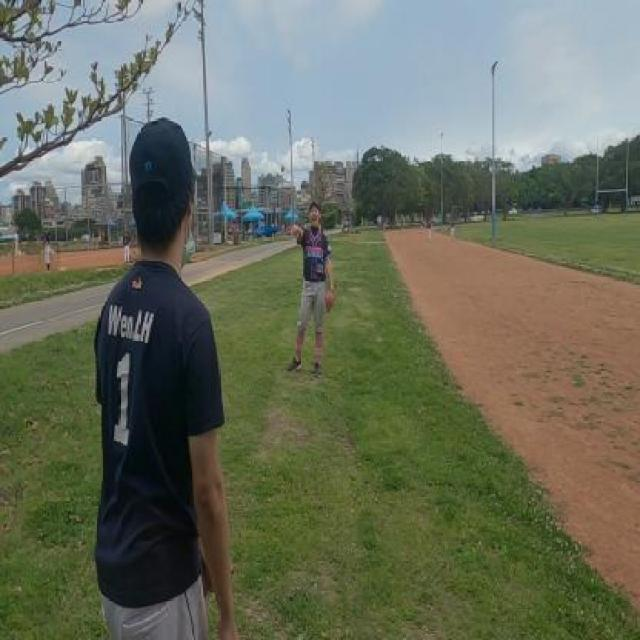baseball: (280, 163, 286, 172)
